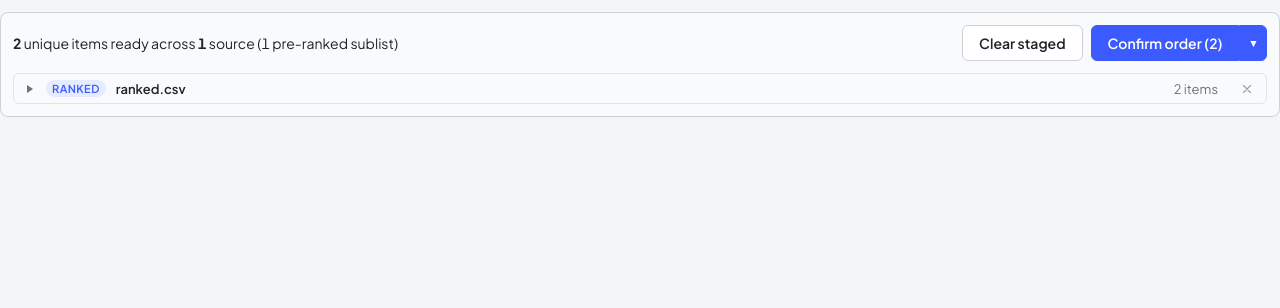
Test case: StagedItemsPanel · Start Sort split-button › shows Confirmation sort third in the menu for a single ranked sublist
The width and height of the screenshot is (1280, 308).
What coordinates should you click on to do the following:
click the button with class "staged-panel-start-caret"
I would click on:
 (1253, 43)
Its box is [1240,25,1267,61].
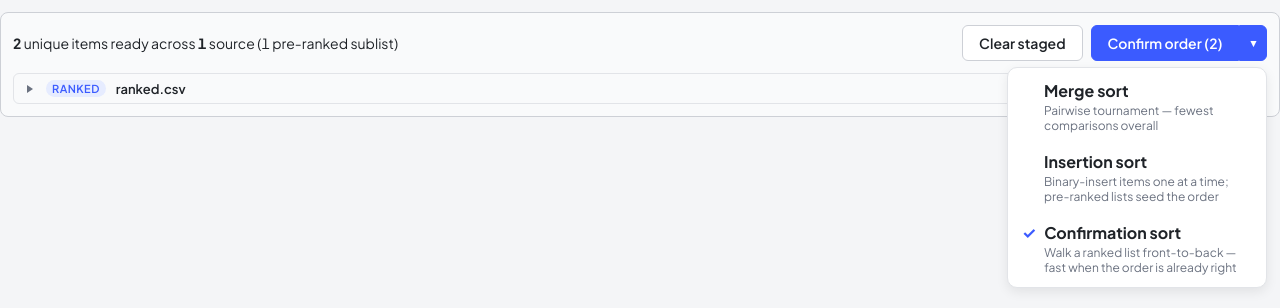
Check: the menu item with class "staged-panel-start-menu-item" shows "Merge sort", box [1012,72,1262,141]
Check: the menu item with class "staged-panel-start-menu-item" shows "Insertion sort", box [1012,143,1262,212]
Check: the menu item with class "staged-panel-start-menu-item" shows "Confirmation sort", box [1012,214,1262,283]
